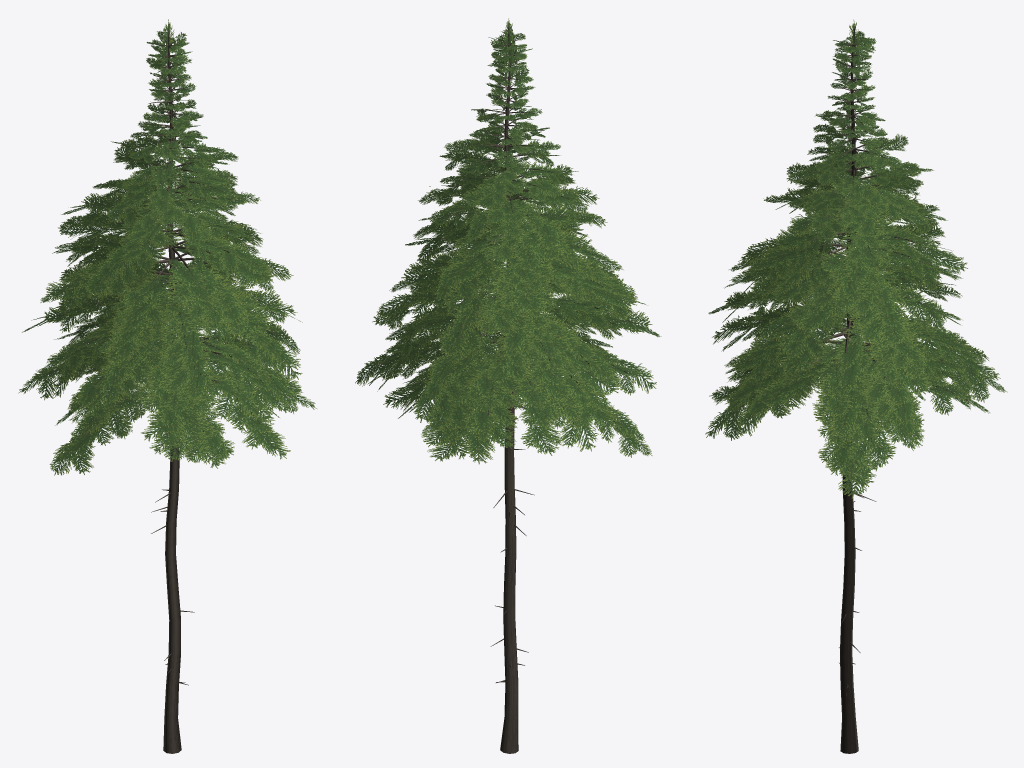
File: near.glb
3 renders of one model, left to right at view 1: azimuth 30°, elevation 25°; view 2: azimuth 150°, elevation 25°; view 3: azimuth 270°, elevation 25°, orthographic.
Visible parts, largest first — view 1: spruce_04; view 2: spruce_04; view 3: spruce_04.
Boxes of the visible parts, box(x1,y1,x2,y2) form: spruce_04: box(18, 19, 316, 753); spruce_04: box(355, 18, 661, 753); spruce_04: box(705, 19, 1007, 753).
Size of the model in its own units: 8.39 by 21.76 by 8.47.
Materials: 2 (2 with a texture image).
